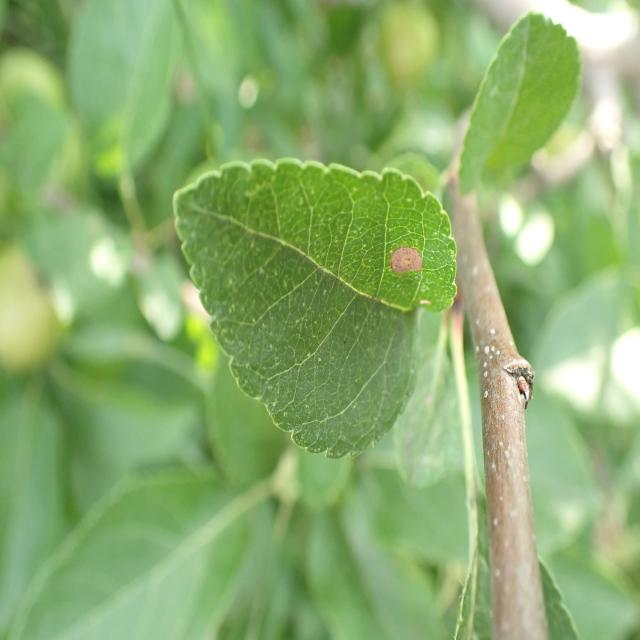Black Rot: (376, 232, 436, 282)
